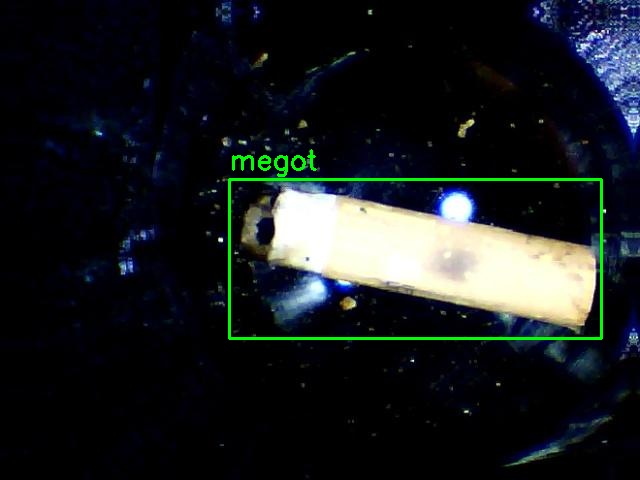megot: (229, 179, 601, 338)
